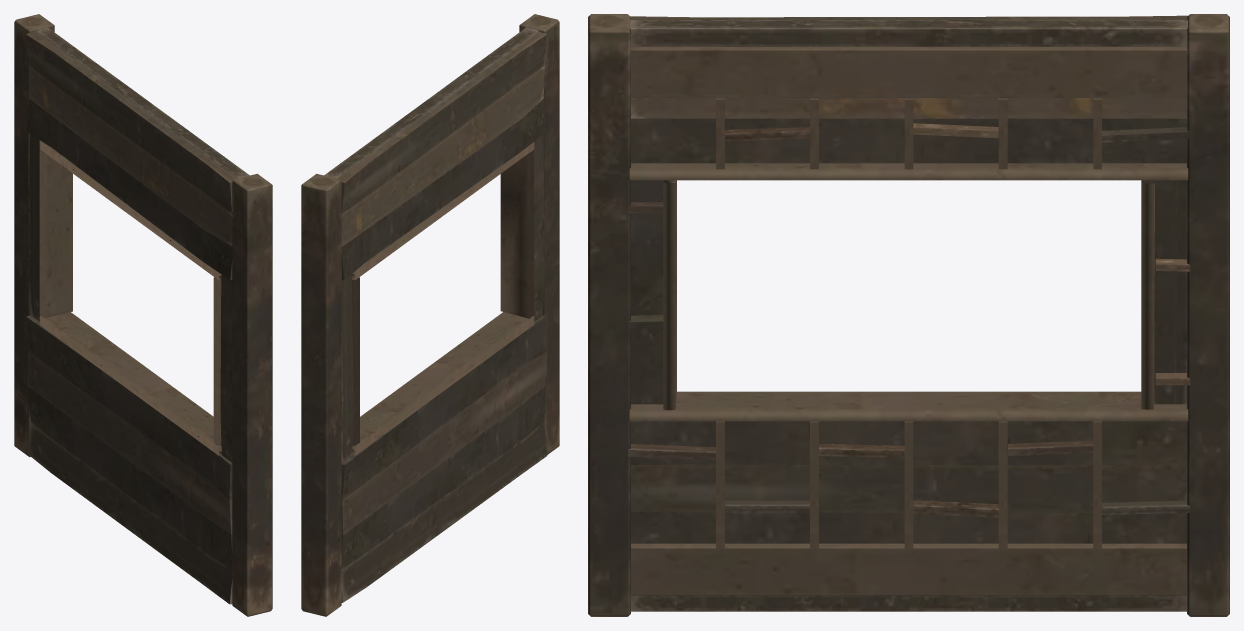
Rendered from wall.window.frontier_variant_b.glb.
3 views of the same model, side by side, from view 1: azimuth 30°, elevation 25°; view 2: azimuth 150°, elevation 25°; view 3: azimuth 270°, elevation 25° (orthographic). The views are drawn at different scales.
Visible parts, largest first — view 1: wall.window_b_LOD0; view 2: wall.window_b_LOD0; view 3: wall.window_b_LOD0.
Part boxes in pixels (left/top/right/bottom): wall.window_b_LOD0: left=14, top=14, right=272, bottom=616; wall.window_b_LOD0: left=301, top=14, right=559, bottom=616; wall.window_b_LOD0: left=588, top=14, right=1229, bottom=616.
Size of the model in its own units: 0.23 by 3.03 by 3.
Materials: 1 (1 with a texture image).
